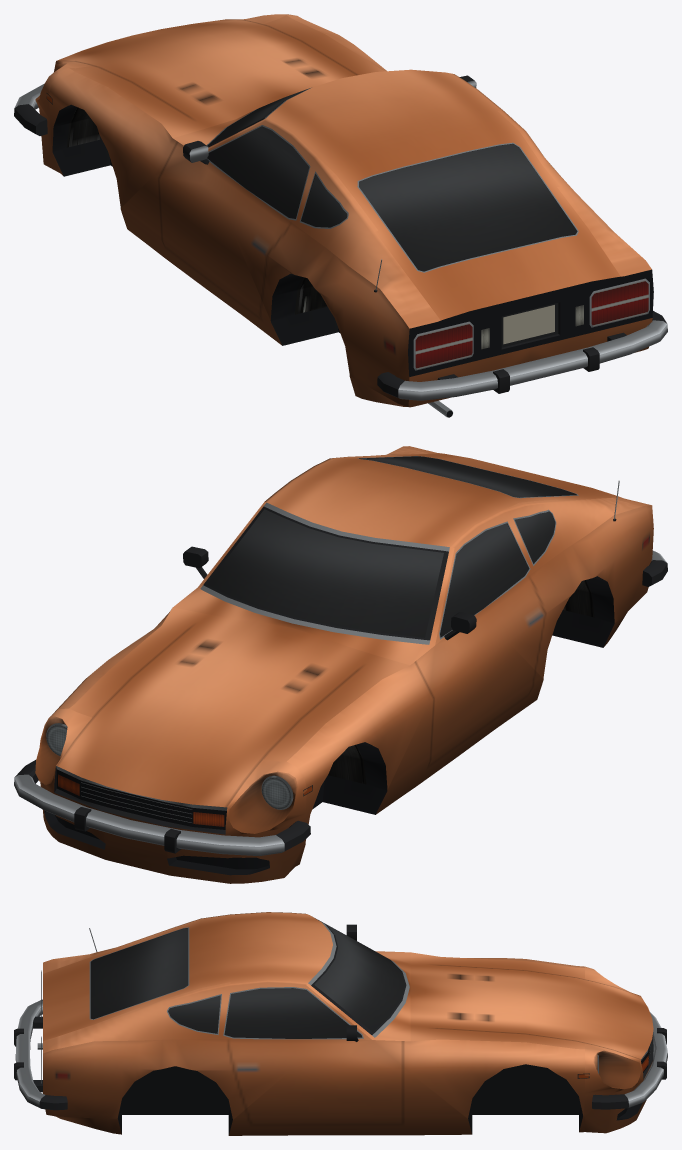
File: longnose_71.obj
The picture shows the model from 3 angles, top to bottom: view 1: azimuth 30°, elevation 25°; view 2: azimuth 150°, elevation 25°; view 3: azimuth 270°, elevation 25°; orthographic projection. The views are drawn at different scales.
Visible parts, largest first — view 1: longnose_71; view 2: longnose_71; view 3: longnose_71.
Part boxes in pixels (<box>): longnose_71: <box>14,14,667,417</box>; longnose_71: <box>14,446,667,883</box>; longnose_71: <box>14,912,667,1135</box>.
Bounding box in the file's own units: 1.68 × 1.06 × 4.31.
